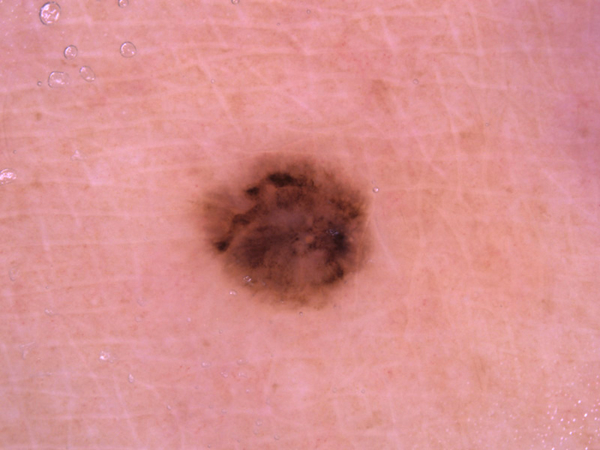Detected Lesion: (193, 142, 381, 312)
